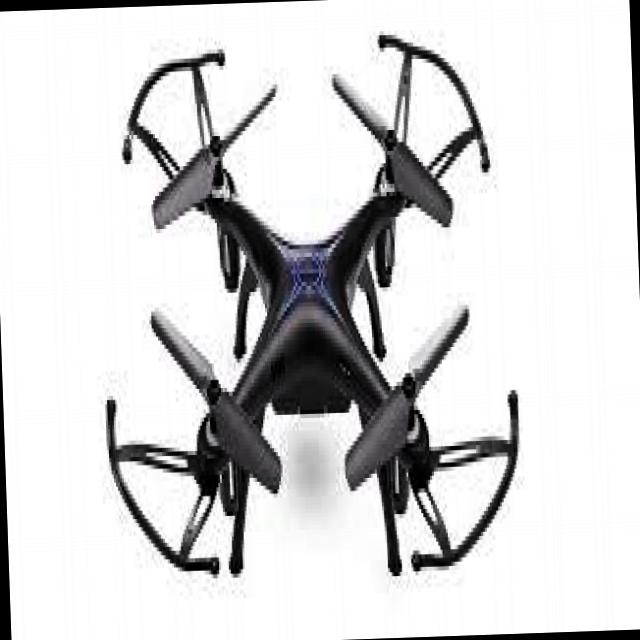drone: (83, 0, 538, 640)
